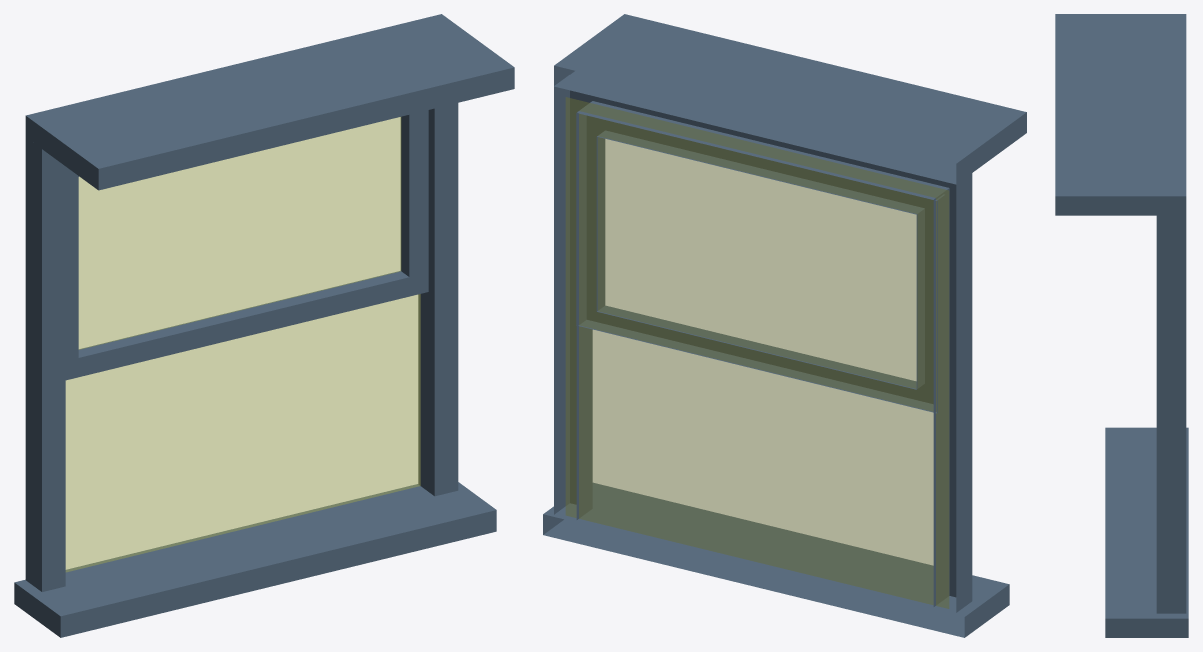
Rendered from Blockout_Prop_Window_01.FBX.
The picture shows the model from 3 angles, left to right: view 1: azimuth 30°, elevation 25°; view 2: azimuth 150°, elevation 25°; view 3: azimuth 270°, elevation 25°; orthographic projection. The views are drawn at different scales.
Parts seen in each view (by area): view 1: Blockout_Prop_Window_01; view 2: Blockout_Prop_Window_01; view 3: Blockout_Prop_Window_01.
Part boxes in pixels (x1,y1,x2,y2): Blockout_Prop_Window_01: [14, 14, 514, 637]; Blockout_Prop_Window_01: [543, 14, 1026, 637]; Blockout_Prop_Window_01: [1055, 14, 1188, 637].
Size of the model in its own units: 268 by 286 by 79.16.
